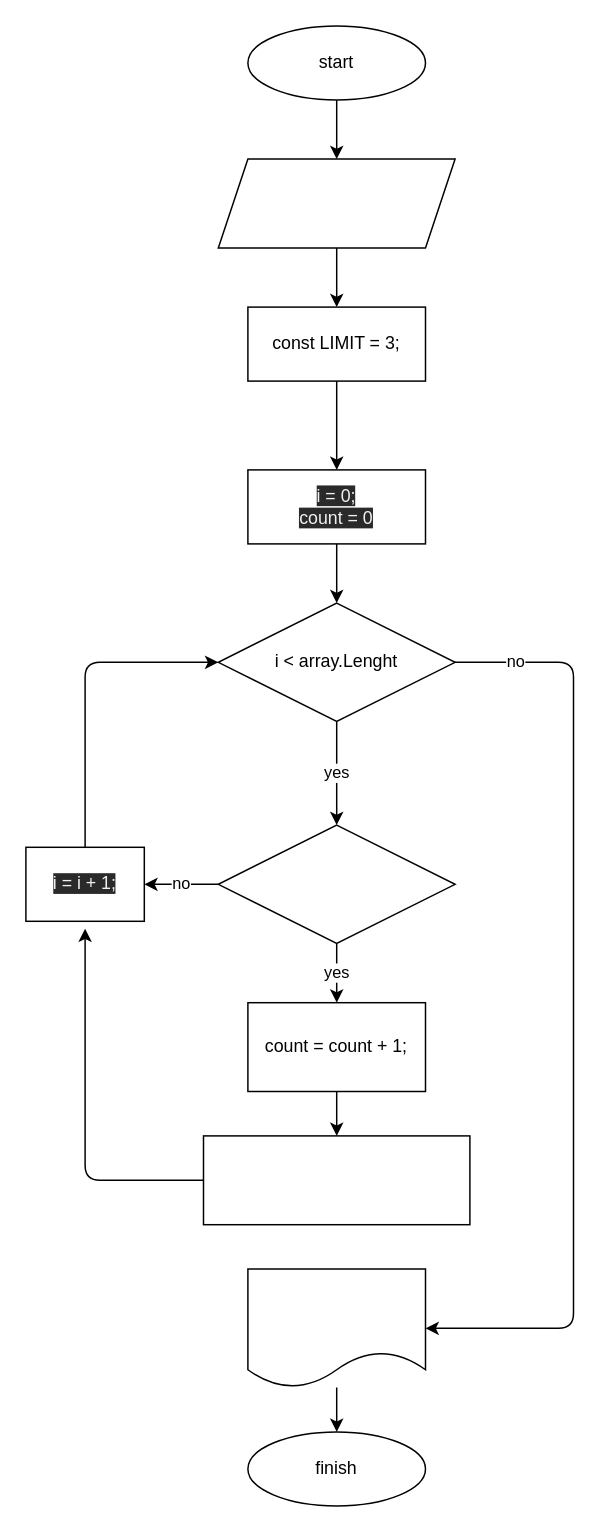
Some shapes in this 611 by 1532 pixel diagram are drawn without their labels. Each missing label, with the centre of its shape:
"array.Lenght <= LIMIT" belongs at pixel 336 884.
"array2 [ count ] = array [ i ]" belongs at pixel 336 1179.
"return array2" belongs at pixel 336 1328.
"string [ ] array; string [ ] array2" belongs at pixel 336 203.
